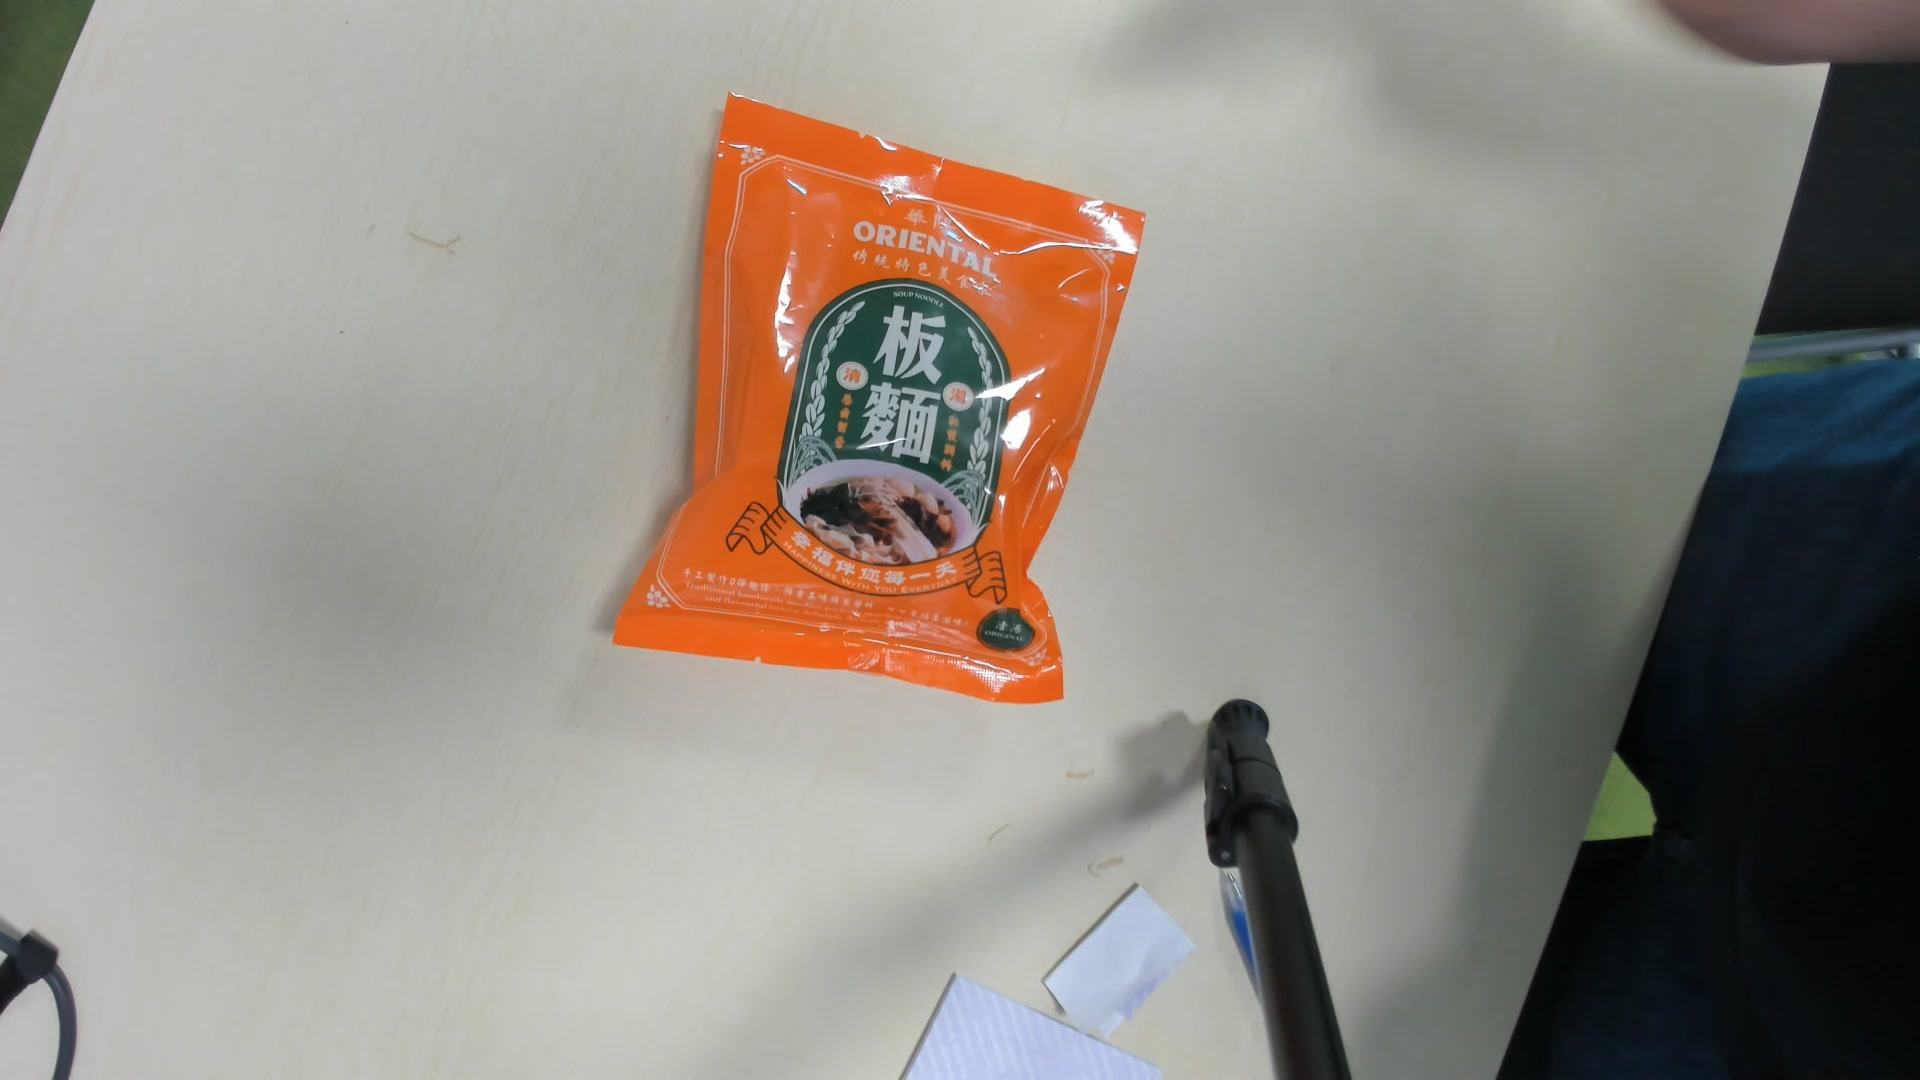InstantMeals_100-199g_NonHalal_Healthy: (628, 90, 1141, 700)
